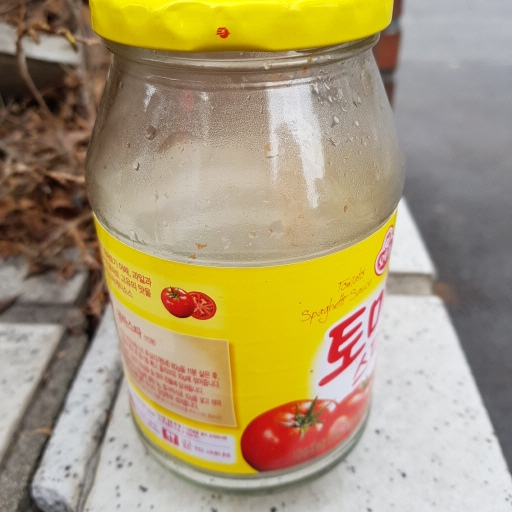Glass_5: (80, 1, 410, 485)
